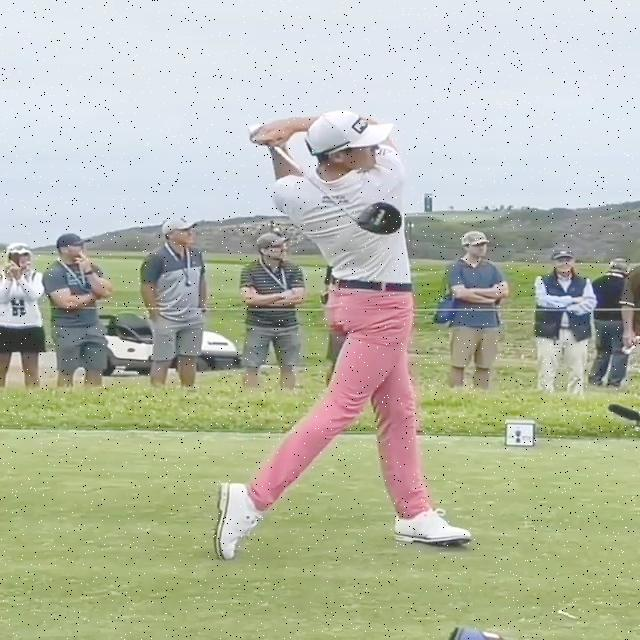ClubHandle: (272, 146, 402, 235)
ClubHead: (356, 202, 402, 235)
